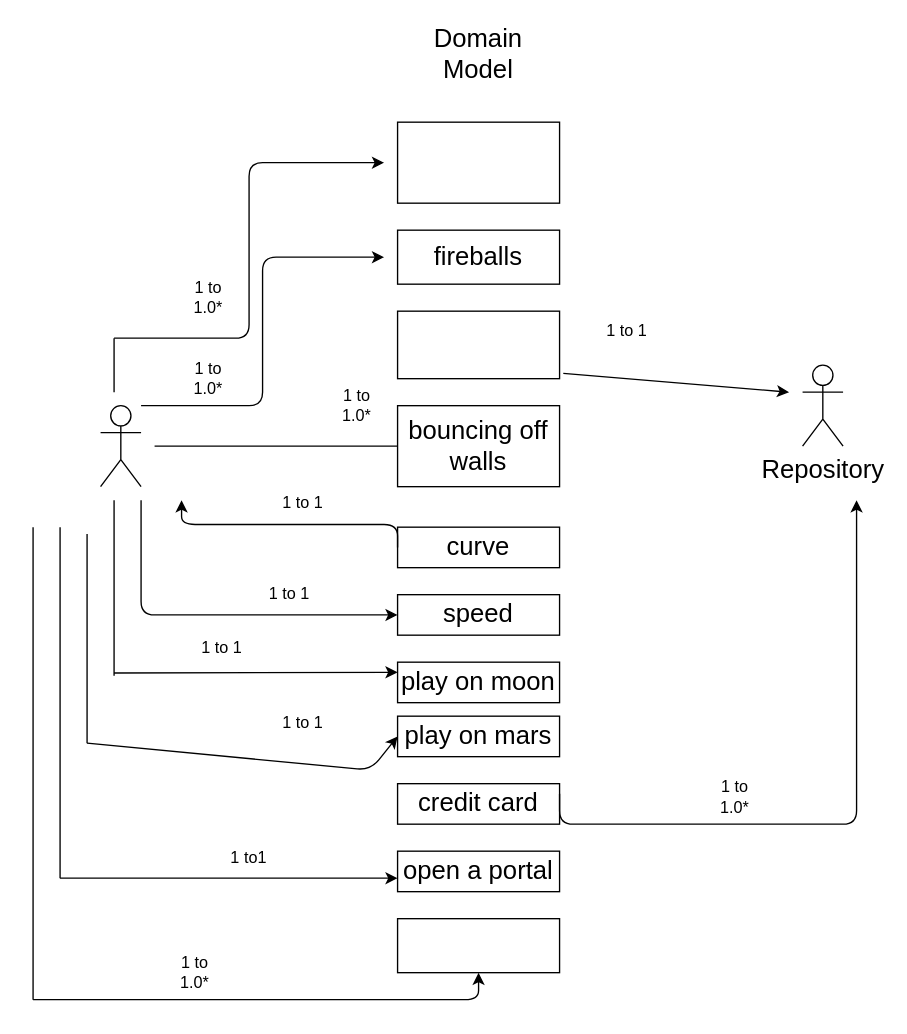
Some shapes in this 907 by 1034 pixel diagram are drawn without their labels. Each missing label, with the centre of its shape:
"candles are lit" belongs at (x=478, y=945).
"different languages" belongs at (x=478, y=162).
"Fireball thrower" belongs at (x=120, y=445).
"set up account" belongs at (x=478, y=344).
